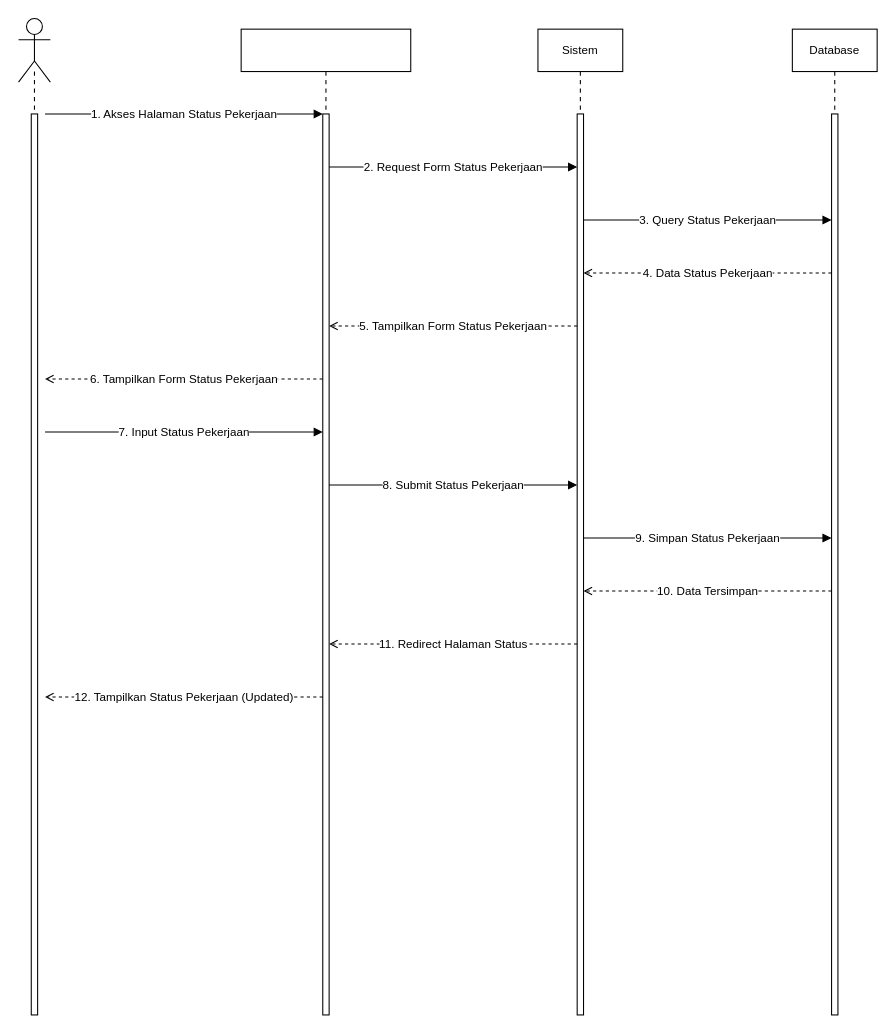
Some shapes in this 896 by 1035 pixel diagram are drawn without their labels. The shapes that lost their labels are listed below. From the top down, each one's box as (x1, y1, x2, y2) in pixels, then its label:
(17, 17, 50, 82): User
(240, 28, 411, 72): Halaman Status Pekerjaan
